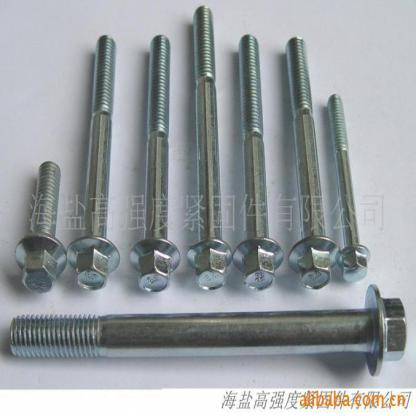FOD: (8, 282, 410, 380), (284, 36, 340, 295), (128, 37, 182, 292), (66, 35, 119, 291), (185, 3, 232, 291), (234, 34, 285, 290), (326, 90, 374, 282), (15, 162, 67, 292)
